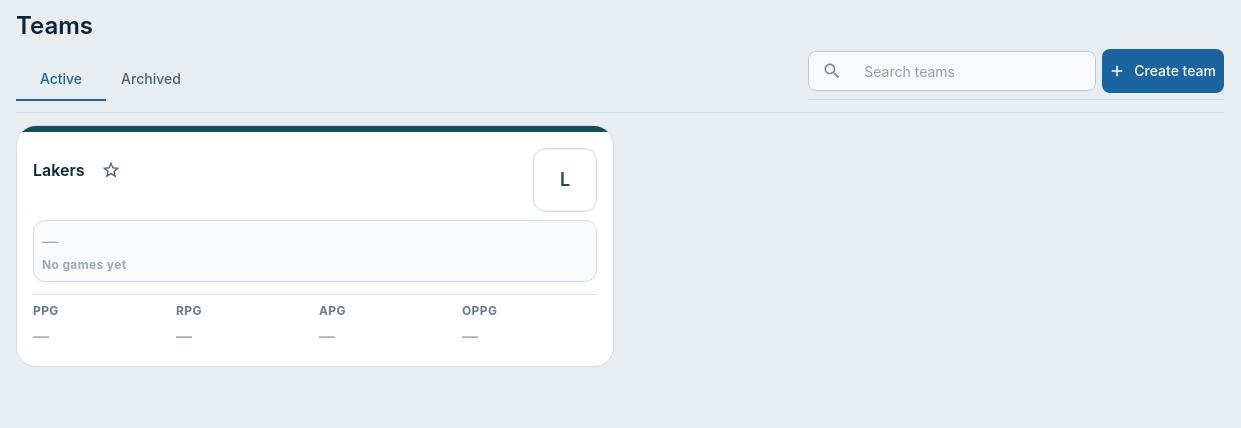
Teams Component › filters teams by search term and clears search from the empty state
This screenshot has width=1241, height=428.
Type "NonExistent" into the field labelled "Search teams" at (973, 71), box [850, 51, 1096, 91]
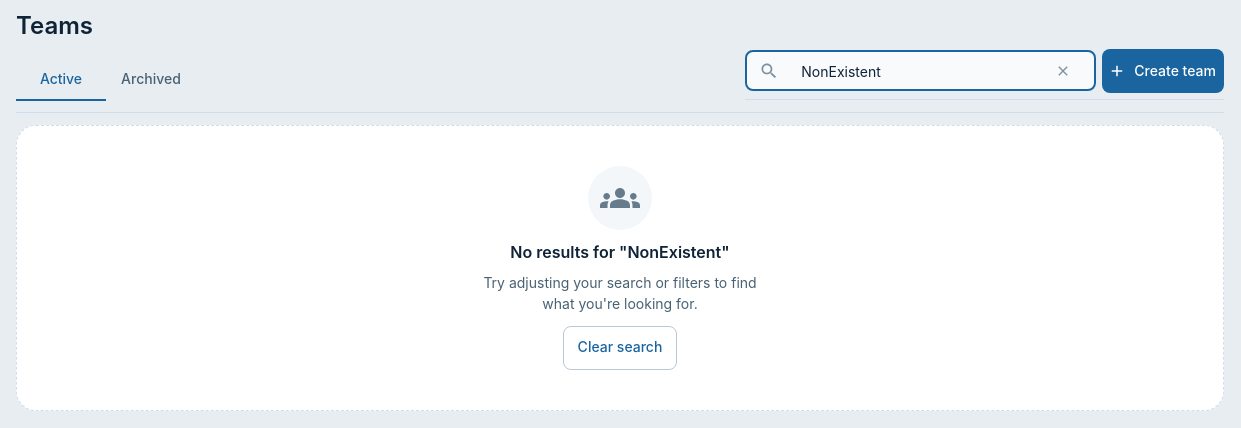
Expected: the text "No results for \"NonExistent\"" is shown, [510, 240, 730, 266]
Click the button named "clear search" at (1063, 71), box [1041, 49, 1085, 93]
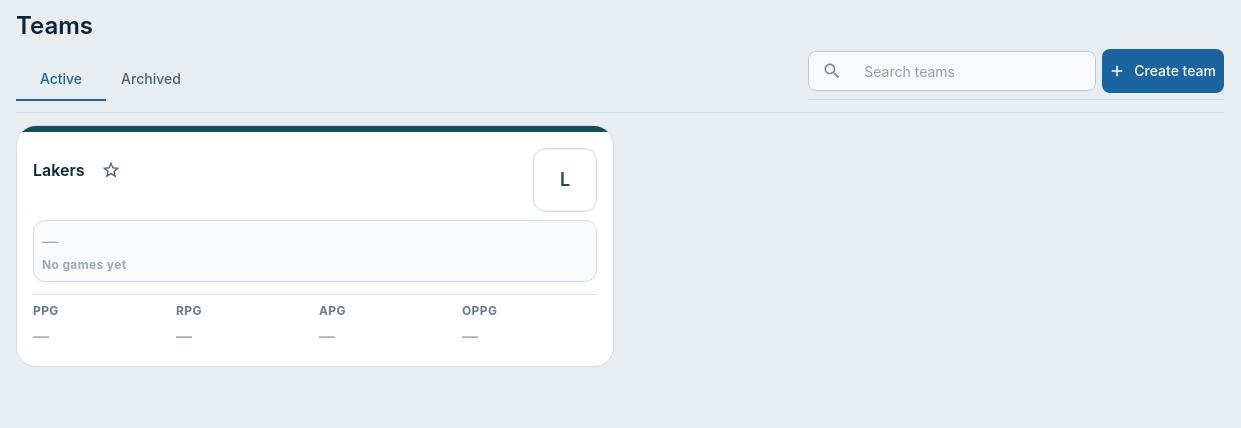
Expected: the heading "Lakers" is shown, [33, 158, 85, 182]
